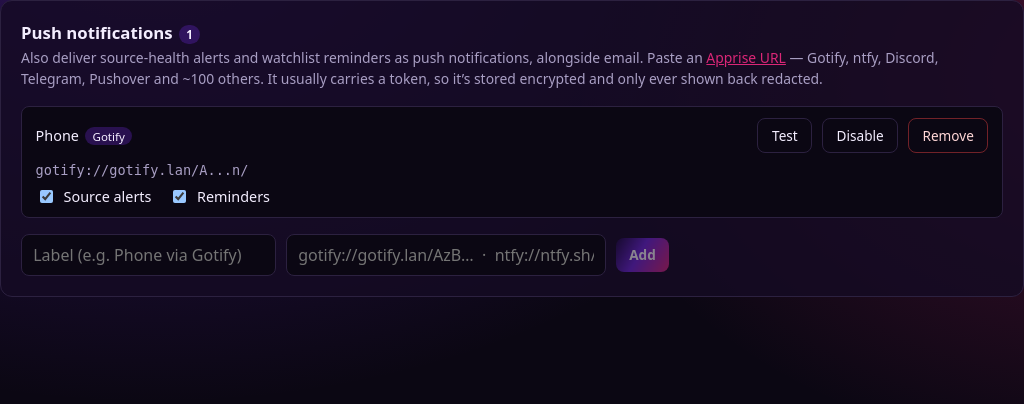
Test: the Test button pings the test endpoint
expect the text "Phone" is shown: met, box [36,126,79,145]
Click the button "Test" at (785, 136), box [758,118,812,153]
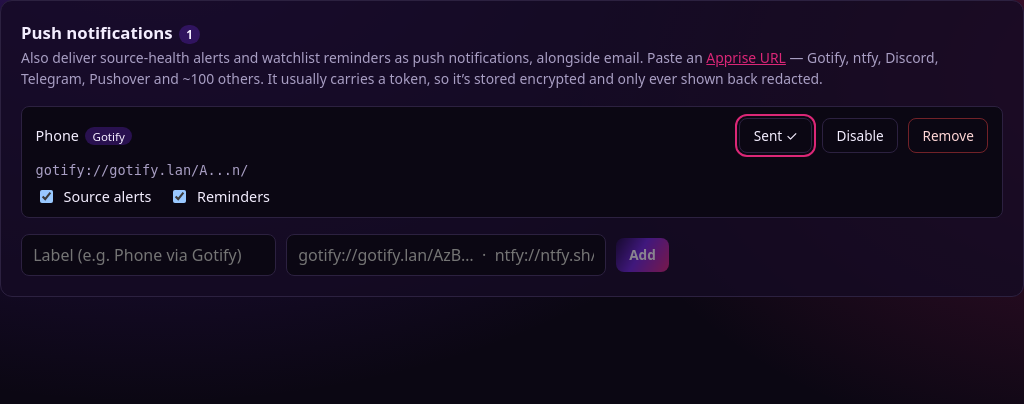
expect the button "Sent ✓" is shown: met, box [739,118,812,153]
